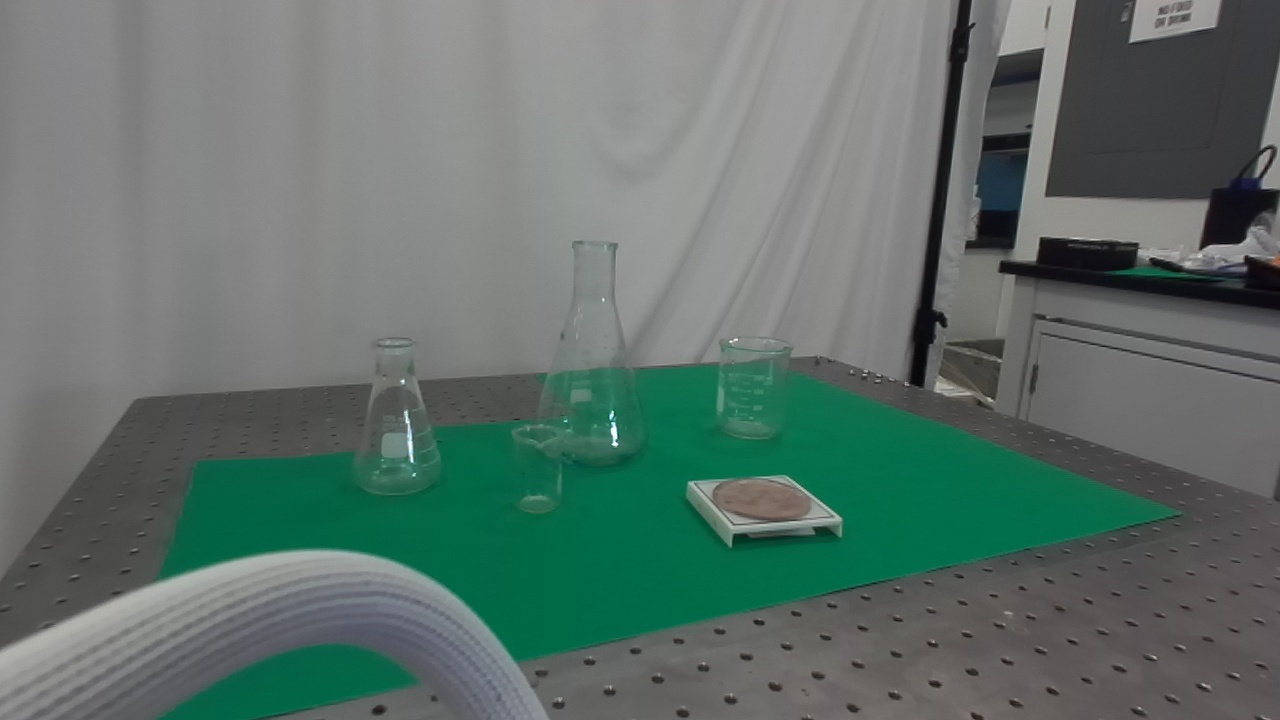glass: (527, 230, 651, 472), (349, 331, 451, 503), (711, 331, 798, 446), (505, 421, 568, 521)
plate: (681, 472, 847, 549)
